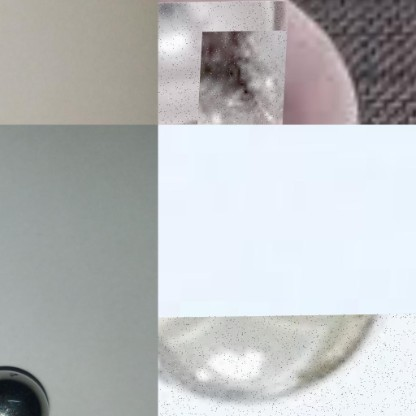ironball: (158, 314, 415, 415), (158, 1, 291, 124), (2, 359, 49, 414)
